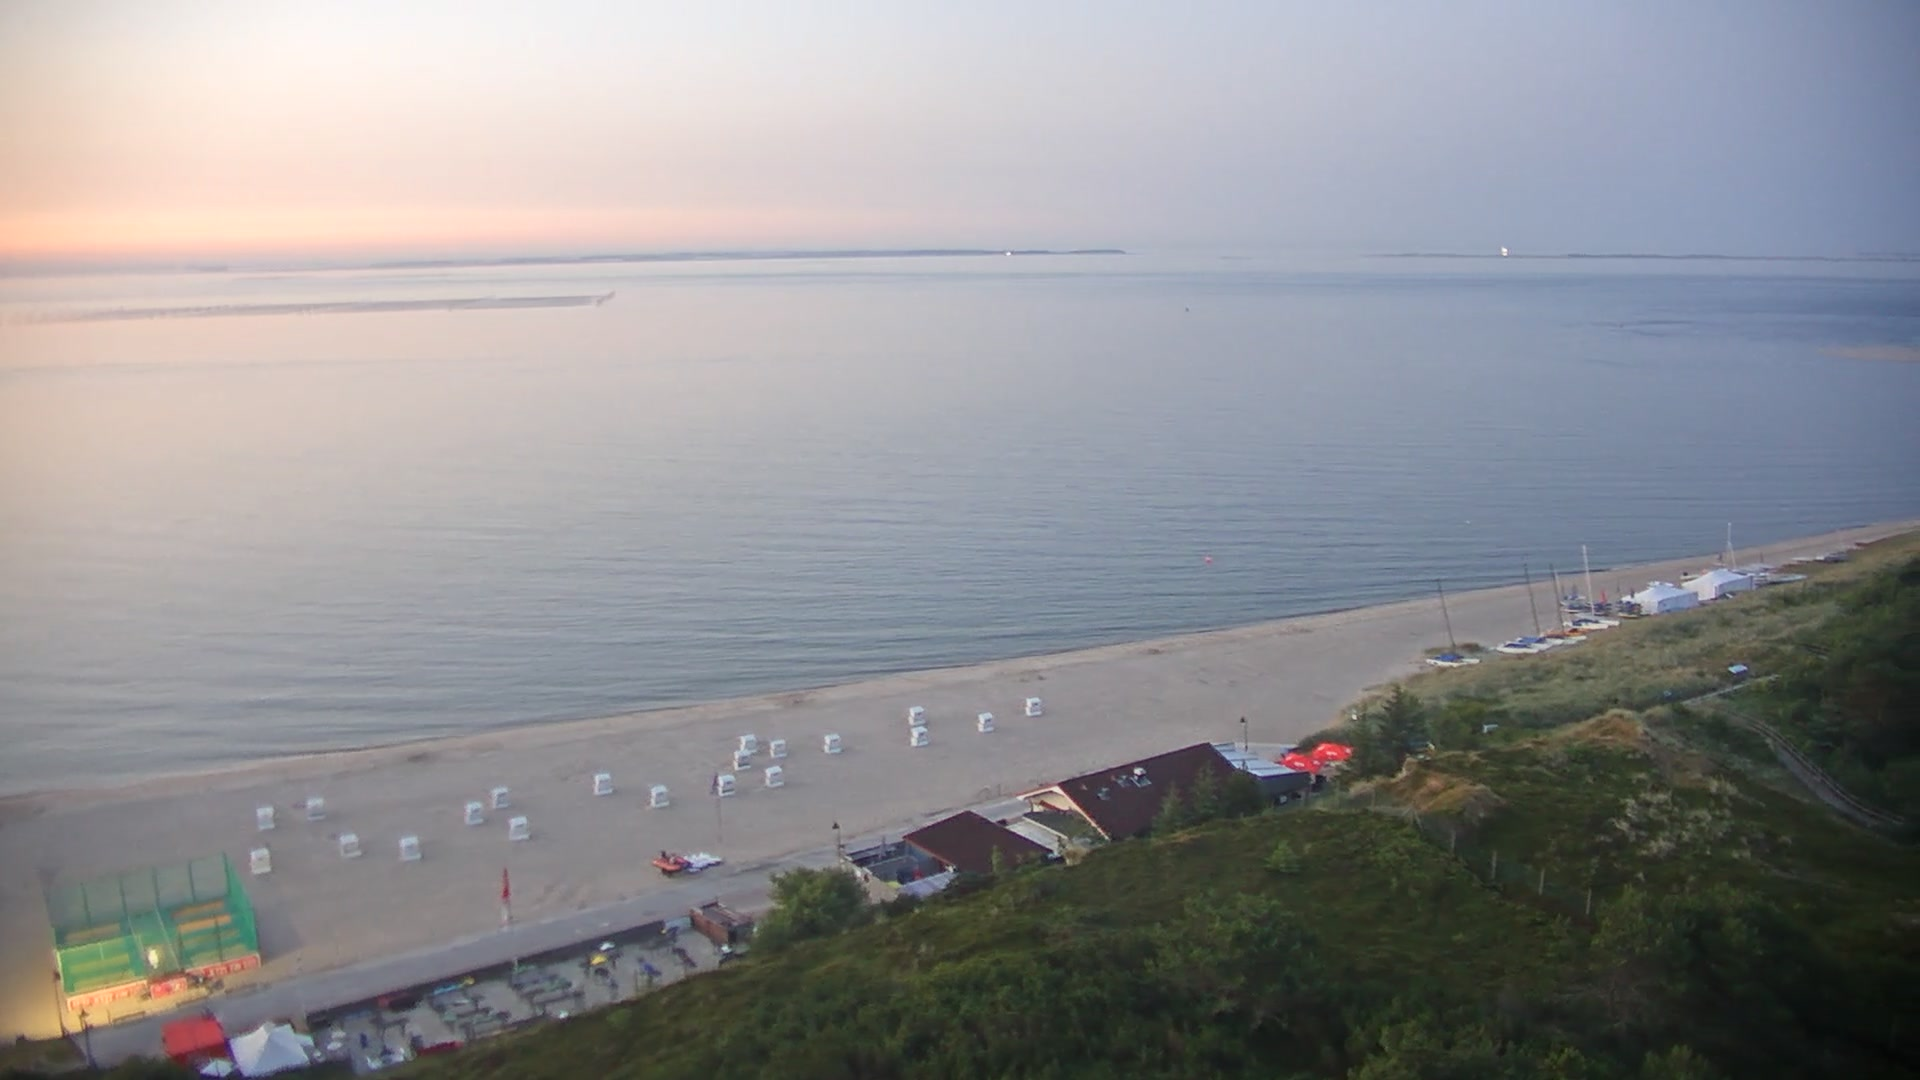sea: (1425, 578, 1480, 671), (1542, 547, 1582, 640), (1557, 545, 1600, 632), (1516, 560, 1560, 638), (1724, 521, 1749, 574), (651, 847, 692, 872), (1491, 641, 1542, 655)
